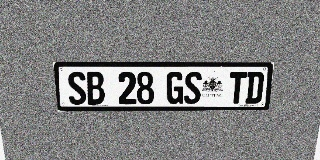2: (118, 72, 136, 104)
8: (136, 72, 154, 104)
B: (85, 72, 105, 105)
D: (245, 72, 265, 104)
G: (166, 72, 184, 104)
S: (67, 72, 87, 105), (184, 72, 202, 104)
T: (228, 72, 247, 104)
